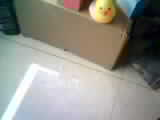duck: (76, 6, 126, 29)
